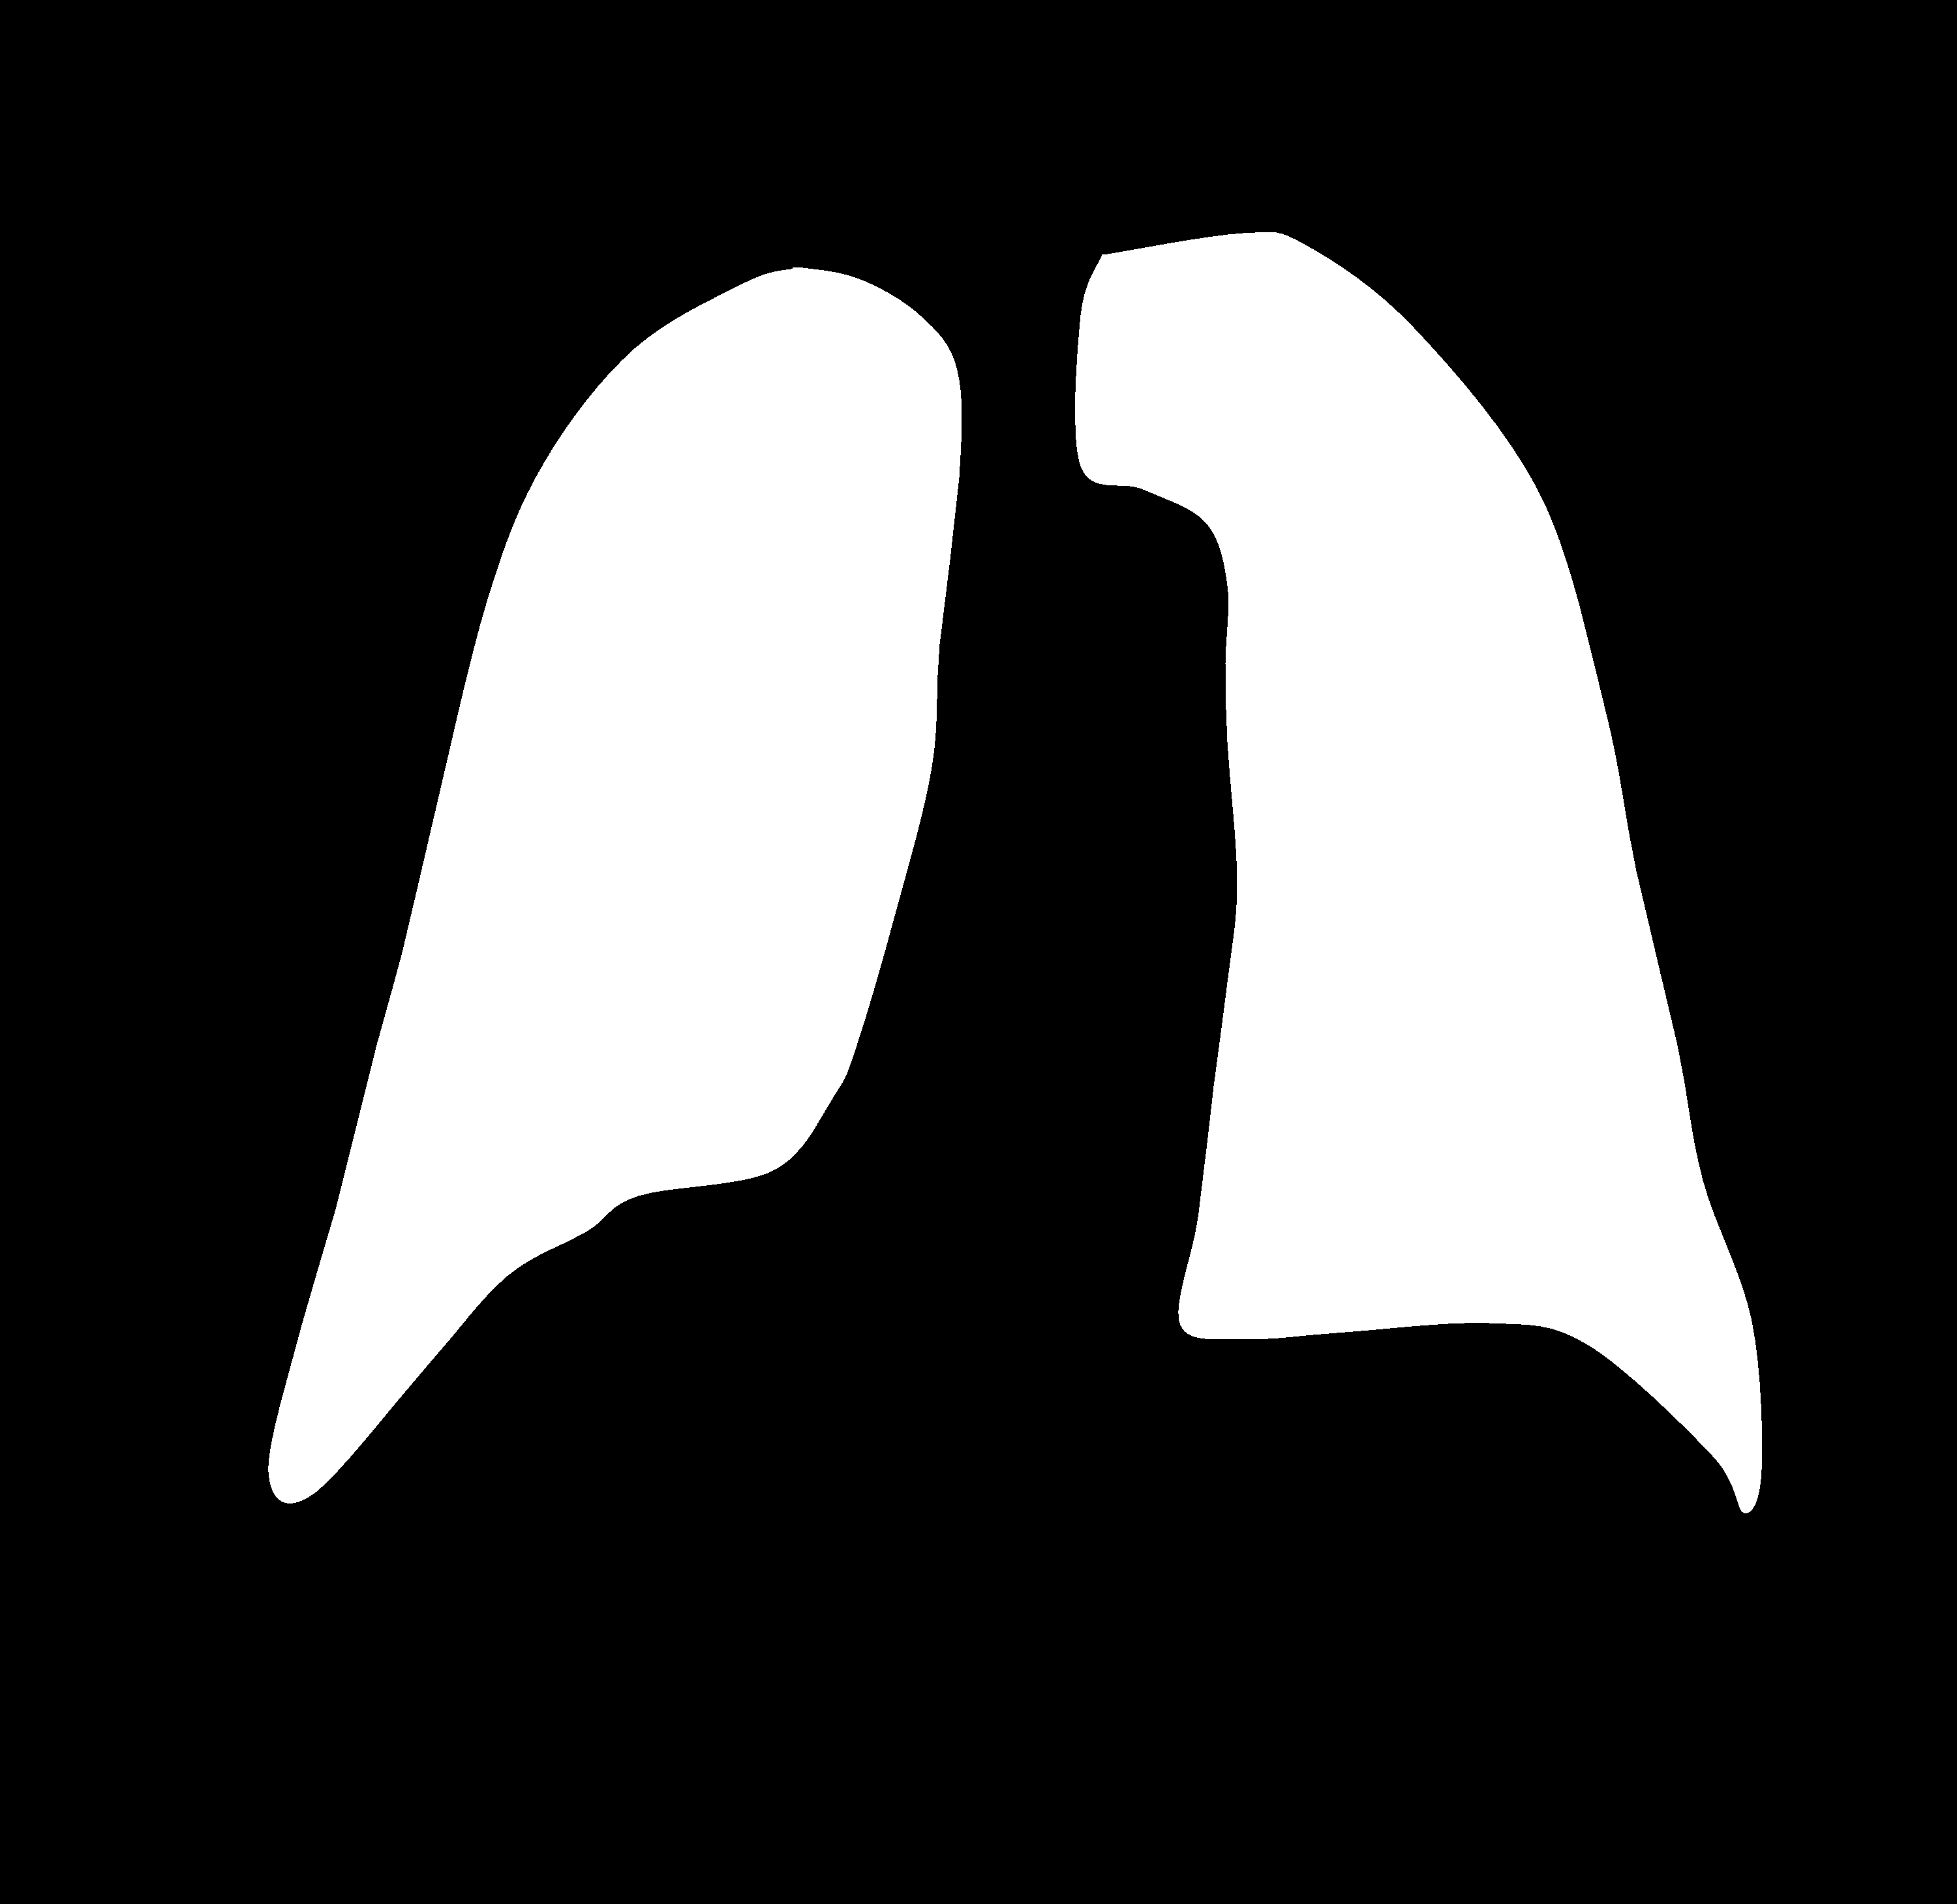heart: (814, 879, 1532, 1376)
left_lung: (271, 267, 961, 1525)
right_lung: (1075, 232, 1749, 1504)
